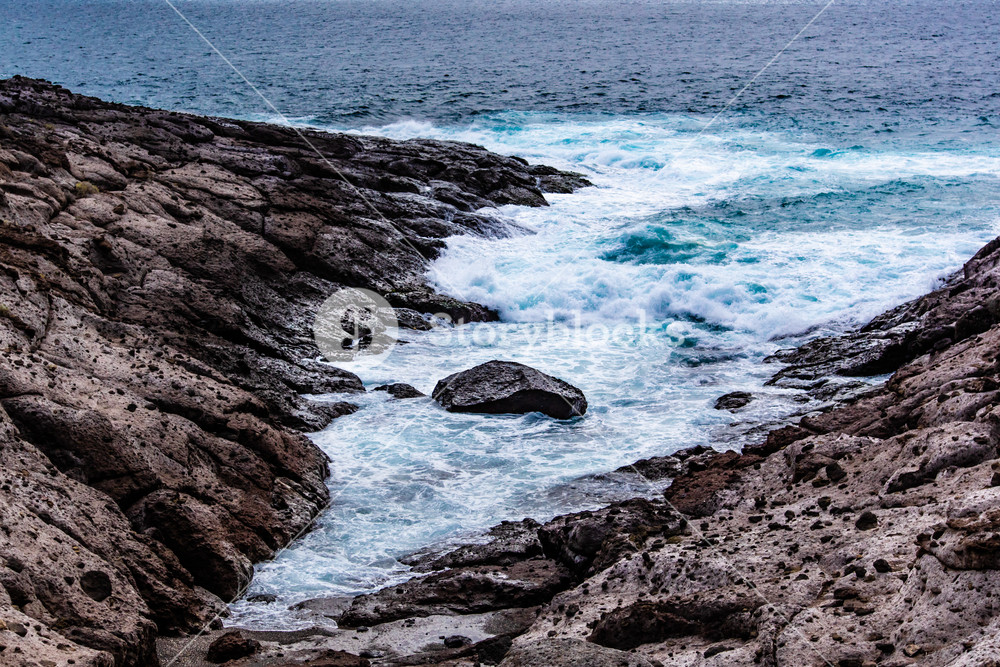volcanic_rock: (767, 488, 998, 660), (1, 162, 270, 281), (1, 273, 223, 416), (1, 437, 144, 629), (649, 552, 857, 667)
